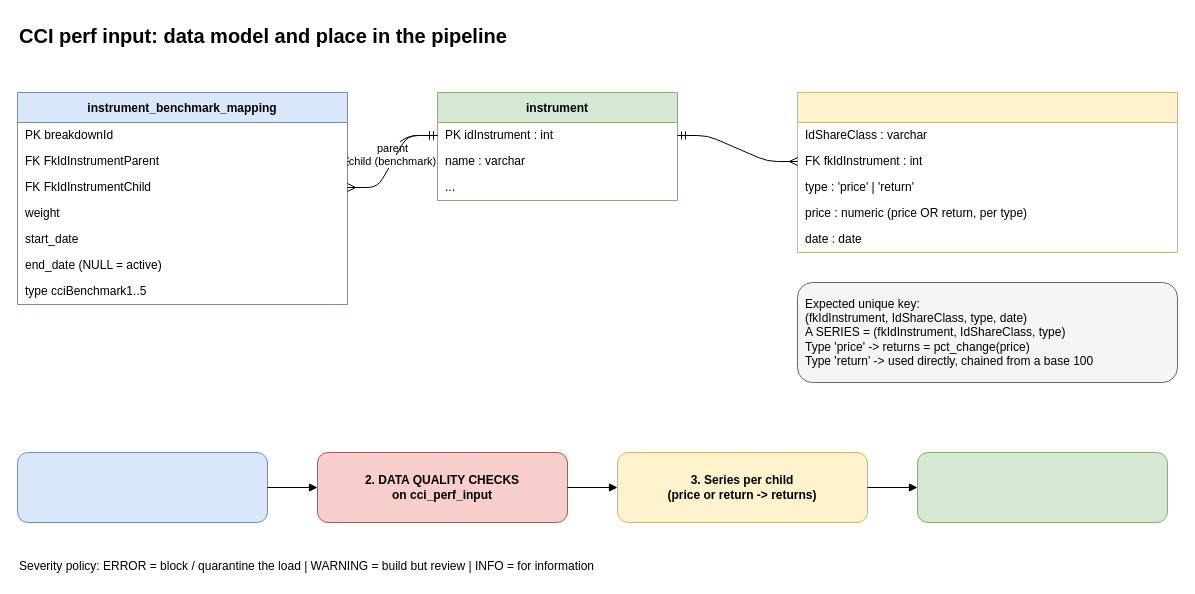
Some shapes in this 1195 by 594 pixel diagram are drawn without their labels. The box of each missing label's shape, as (x1, y1, x2, y2) in pixels:
1. Mapping segments + weights: (16, 452, 268, 522)
4. Composite time series cumulative return, rebased value: (916, 452, 1168, 522)
cci_perf_input: (796, 92, 1178, 252)
